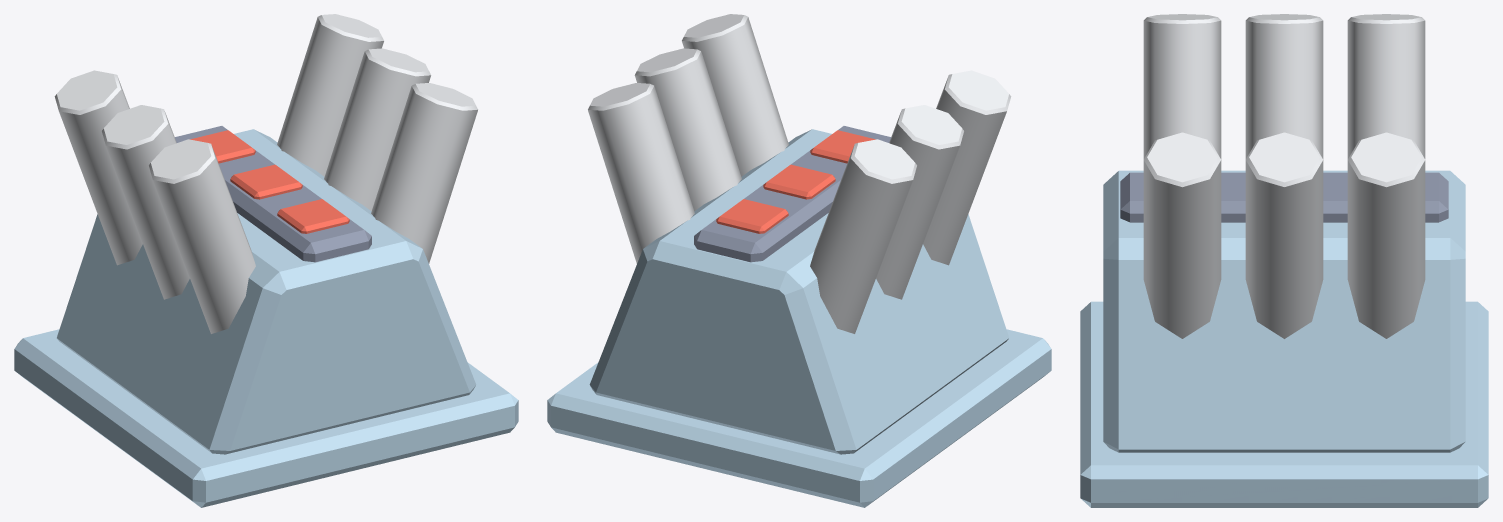
Rendered from R4X_Overdrive_LOD1.glb.
3 renders of one model, left to right at view 1: azimuth 30°, elevation 25°; view 2: azimuth 150°, elevation 25°; view 3: azimuth 270°, elevation 25°, orthographic. The views are drawn at different scales.
Visible parts, largest first — view 1: R4X_Overdrive_LOD1; view 2: R4X_Overdrive_LOD1; view 3: R4X_Overdrive_LOD1.
Boxes of the visible parts, x1,y1,x2,y2 form: R4X_Overdrive_LOD1: (14, 14, 518, 507); R4X_Overdrive_LOD1: (547, 14, 1051, 507); R4X_Overdrive_LOD1: (1080, 14, 1488, 507).
Bounding box in the file's own units: 0.52 × 0.4918 × 0.52.
